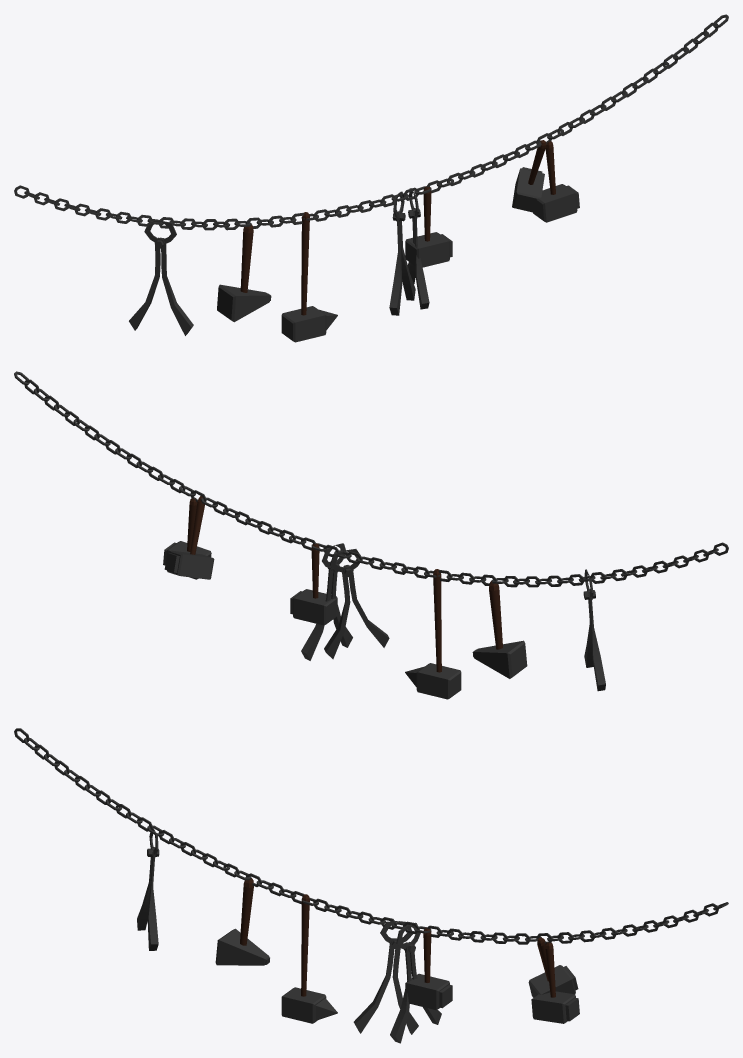
Rendered from SM_chain_blacksmith.fbx.
3 renders of one model, top to bottom at view 1: azimuth 30°, elevation 25°; view 2: azimuth 150°, elevation 25°; view 3: azimuth 330°, elevation 25°, orthographic.
Visible parts, largest first — view 1: Cylinder052; view 2: Cylinder052; view 3: Cylinder052.
Part boxes in pixels (left/top/right/bottom): Cylinder052: left=14, top=14, right=728, bottom=342; Cylinder052: left=14, top=371, right=728, bottom=699; Cylinder052: left=14, top=728, right=728, bottom=1043.
Bounding box in the file's own units: 234 × 68.26 × 26.
